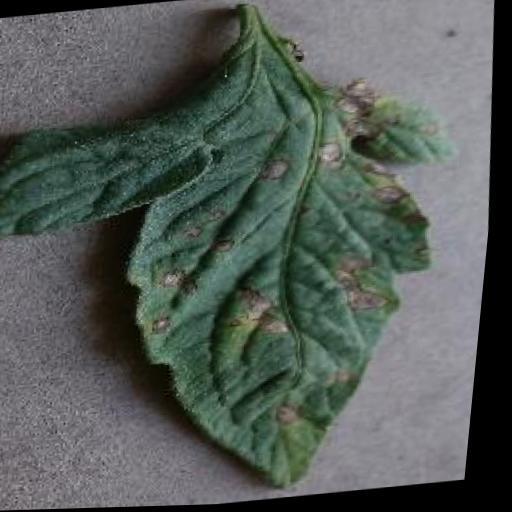Early Blight: (0, 7, 504, 512)
